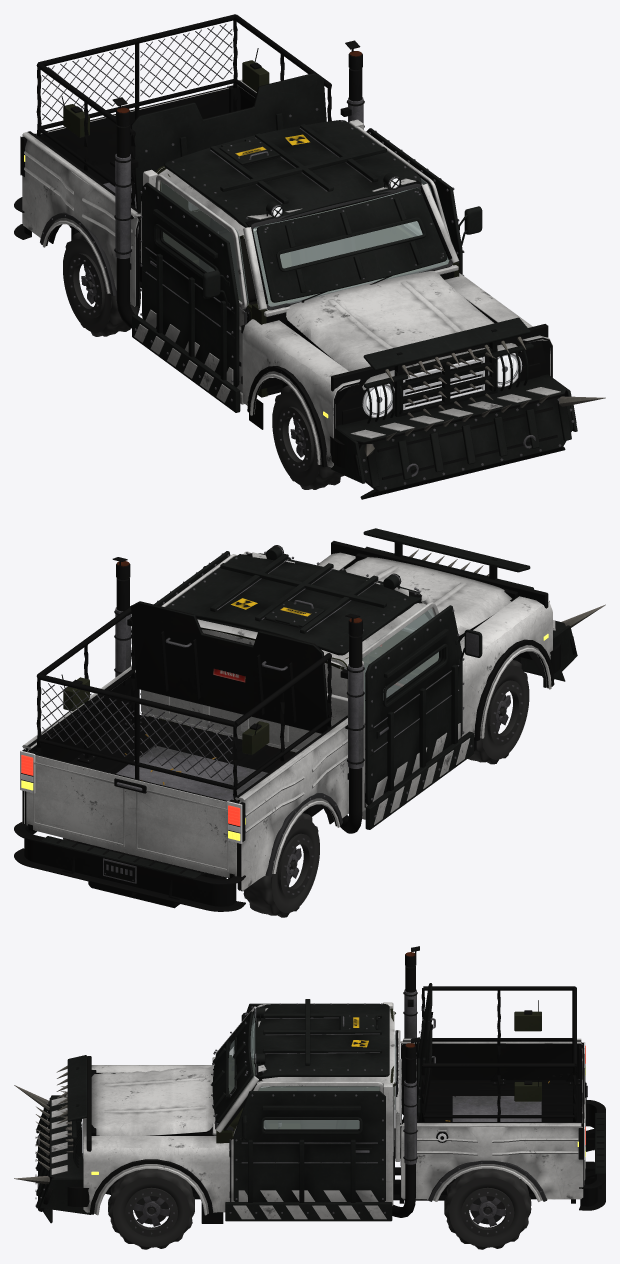
Rendered from truck_t3.glb.
3 renders of one model, top to bottom at view 1: azimuth 30°, elevation 25°; view 2: azimuth 150°, elevation 25°; view 3: azimuth 270°, elevation 25°, orthographic. The views are drawn at different scales.
Visible parts, largest first — view 1: body, panel_bumper_F, panel_armor_roof, panel_armor_R, panel_hood, panel_armor_windshield, panel_fender_R, wheel_RR, wheel_FR, panel_tailgate, panel_door_R, panel_armor_L (+2 smaller); view 2: body, panel_tailgate, panel_armor_roof, panel_armor_R, panel_bumper_R, panel_fender_R, panel_hood, wheel_RR, wheel_FR, panel_door_R, panel_bumper_F, panel_armor_L; view 3: body, panel_armor_L, panel_armor_roof, panel_hood, panel_fender_L, wheel_RL, wheel_FL, panel_bumper_F, panel_armor_windshield, panel_door_L, panel_bumper_R, panel_fender_R (+1 smaller).
Part boxes in pixels (box(x1,y1,x2,y2)): body: box(20, 14, 548, 425); panel_bumper_F: box(330, 374, 605, 499); panel_armor_roof: box(164, 120, 421, 228); panel_armor_R: box(140, 182, 239, 387); panel_hood: box(286, 271, 521, 390); panel_armor_windshield: box(256, 188, 447, 302); panel_fender_R: box(242, 319, 360, 467); wheel_RR: box(63, 232, 140, 336); wheel_FR: box(272, 385, 344, 489); panel_tailgate: box(35, 87, 228, 168); panel_door_R: box(155, 174, 251, 392); panel_armor_L: box(366, 128, 482, 275); body: box(20, 528, 548, 908); panel_tailgate: box(26, 754, 237, 878); panel_armor_roof: box(166, 545, 421, 655); panel_armor_R: box(365, 605, 482, 805); panel_bumper_R: box(14, 822, 245, 911); panel_fender_R: box(460, 596, 554, 751); panel_hood: box(345, 557, 511, 636); wheel_RR: box(243, 813, 319, 917); wheel_FR: box(467, 660, 529, 764); panel_door_R: box(362, 602, 438, 807); panel_bumper_F: box(520, 601, 605, 687); panel_armor_L: box(140, 551, 230, 713); body: box(56, 946, 601, 1221); panel_armor_L: box(233, 1091, 385, 1202); panel_armor_roof: box(254, 999, 389, 1079); panel_hood: box(83, 1066, 215, 1142); panel_fender_L: box(83, 1136, 229, 1223); wheel_RL: box(444, 1168, 531, 1249); wheel_FL: box(108, 1169, 194, 1249); panel_bumper_F: box(14, 1085, 90, 1223); panel_armor_windshield: box(210, 1011, 253, 1123); panel_door_L: box(229, 1081, 382, 1201); panel_bumper_R: box(579, 1100, 605, 1210); panel_fender_R: box(91, 1065, 212, 1073).
Size of the model in its own units: 2.61 by 2.42 by 5.99.
Materials: 22 (14 with a texture image).
